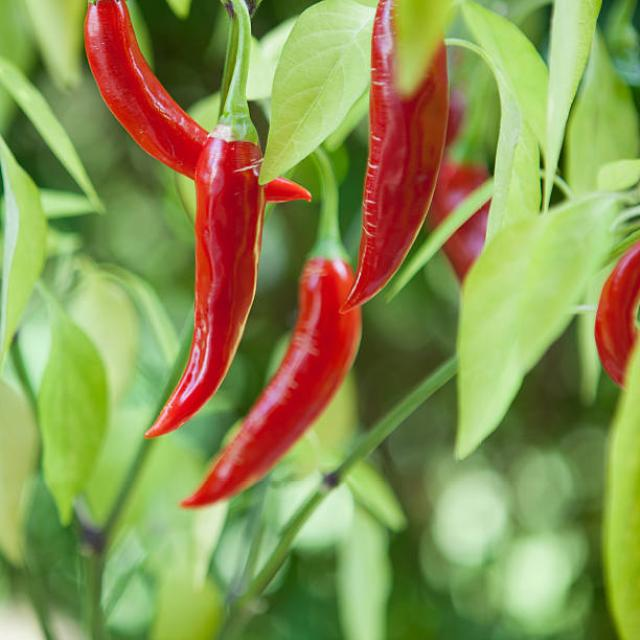Ripe: (352, 0, 449, 301), (169, 138, 267, 432), (84, 0, 209, 165)
